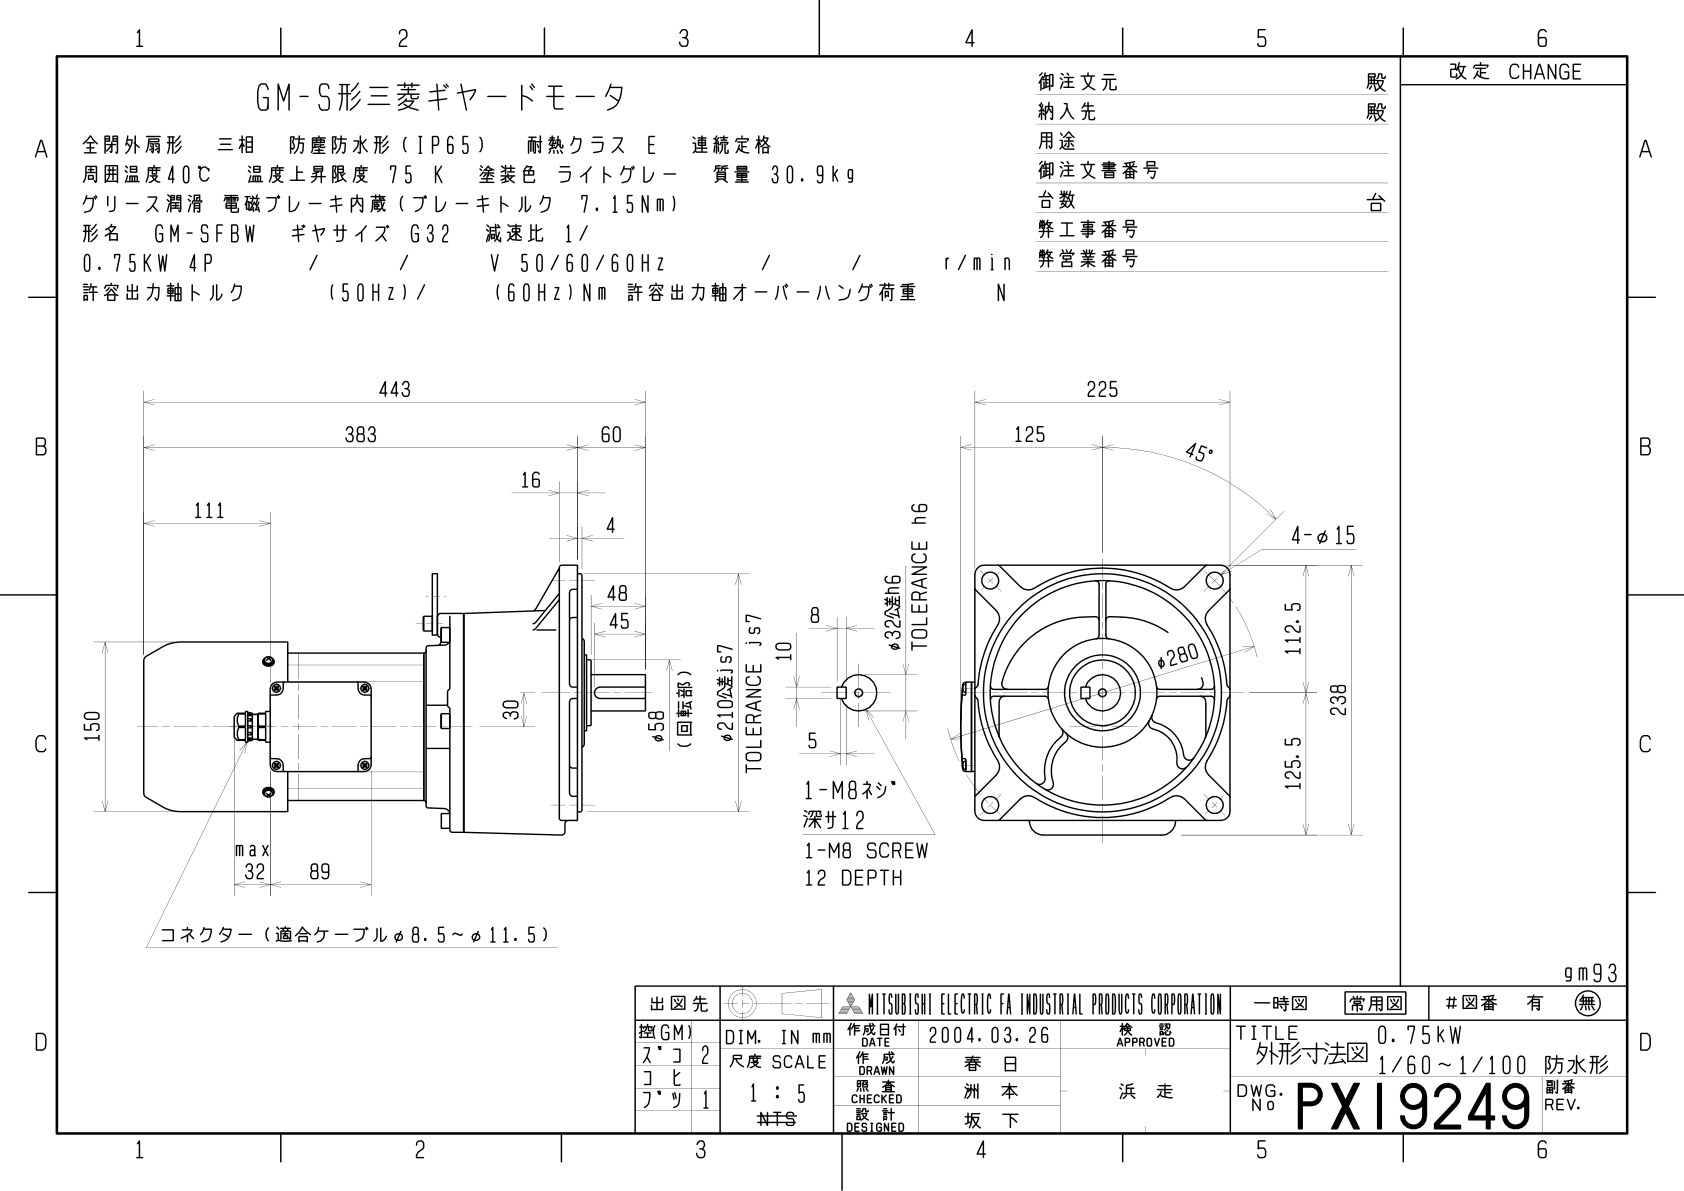GM_S_IP65＿三相_フランジ: (9, 6, 1684, 1191)
